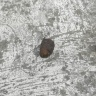Dog: (39, 37, 55, 59)
